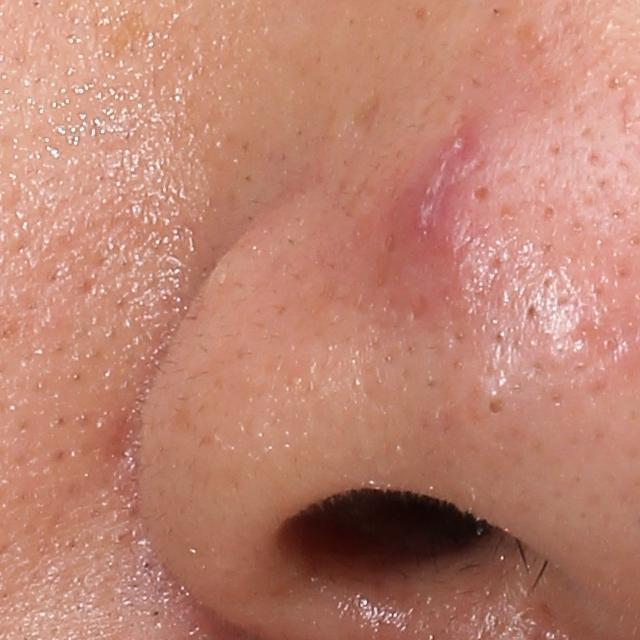atrophic_scar: (415, 120, 479, 242), (574, 313, 636, 367), (343, 88, 385, 149)
comedo: (487, 394, 504, 418), (542, 204, 560, 222)
